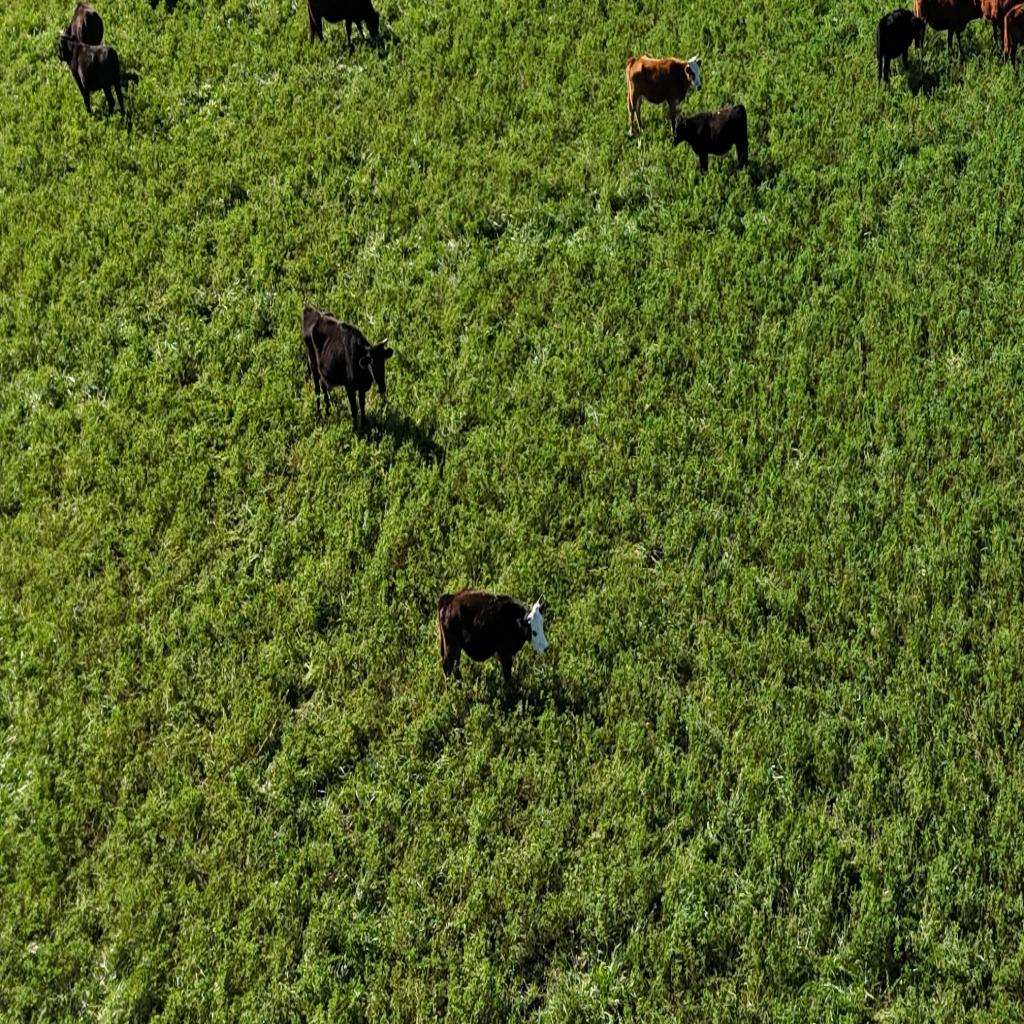cow: (302, 305, 395, 436), (435, 590, 547, 688), (626, 52, 704, 142), (58, 32, 126, 120), (672, 104, 748, 176), (914, 2, 981, 64), (304, 1, 380, 55), (875, 8, 924, 88), (979, 2, 1024, 68), (62, 2, 105, 49), (912, 0, 925, 24)
